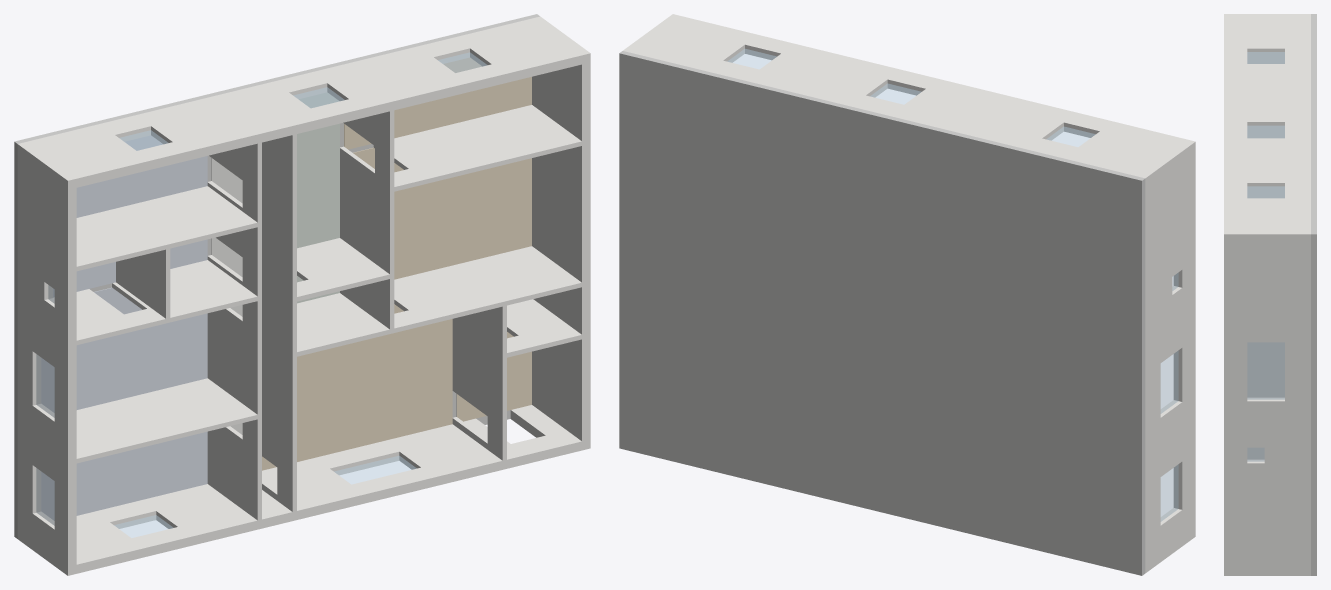
Rendered from family_seed1.glb.
3 views of the same model, side by side, from view 1: azimuth 30°, elevation 25°; view 2: azimuth 150°, elevation 25°; view 3: azimuth 270°, elevation 25° (orthographic). The views are drawn at different scales.
Visible parts, largest first — view 1: wall_6, wall_4, wall_3, wall_1, floor_living1, floor_salon1, wall_8, floor_master1, wall_5, floor_bedroom1, wall_2, floor_kitchen1 (+29 smaller); view 2: slab, wall_3, wall_4, wall_5, wall_6, wall_1, wall_2, wall_0, lintel_18, lintel_21, glass_18, sill_18 (+5 smaller); view 3: wall_6, wall_4, wall_5, wall_3, slab, glass_13, sill_13, lintel_13, sill_14, glass_16, glass_17, glass_22 (+8 smaller).
Boxes of the visible parts, x1,y1,x2,y2 form: wall_6: (373,16,590,455); wall_4: (136,81,397,478); wall_3: (17,124,261,324); wall_1: (17,308,261,490); floor_living1: (262,304,452,470); floor_salon1: (353,147,531,279); wall_8: (141,426,364,545); floor_master1: (41,287,207,412); wall_5: (312,46,468,156); floor_bedroom1: (41,431,207,520); wall_2: (17,281,139,376); floor_kitchen1: (297,92,339,248); slab: (619,51,1145,575); wall_3: (1063,121,1195,296); wall_4: (889,79,1076,149); wall_5: (745,44,900,106); wall_6: (623,14,757,71); wall_1: (1145,392,1195,487); wall_2: (1145,278,1195,374); wall_0: (1145,500,1195,573); lintel_18: (1173,338,1195,401); lintel_21: (1173,452,1195,509); glass_18: (1161,351,1178,413); sill_18: (1145,363,1160,428); wall_6: (1224,198,1310,575); wall_4: (1224,64,1310,138); wall_5: (1224,138,1310,198); wall_3: (1224,14,1310,63); slab: (1311,14,1316,575); glass_13: (1247,342,1284,399); sill_13: (1285,342,1310,401); lintel_13: (1224,342,1247,401); sill_14: (1264,447,1310,463); glass_16: (1247,186,1284,197); glass_17: (1247,126,1284,137); glass_22: (1247,52,1284,63).
Bounding box in the file's own units: 18 × 13 × 3.2.
